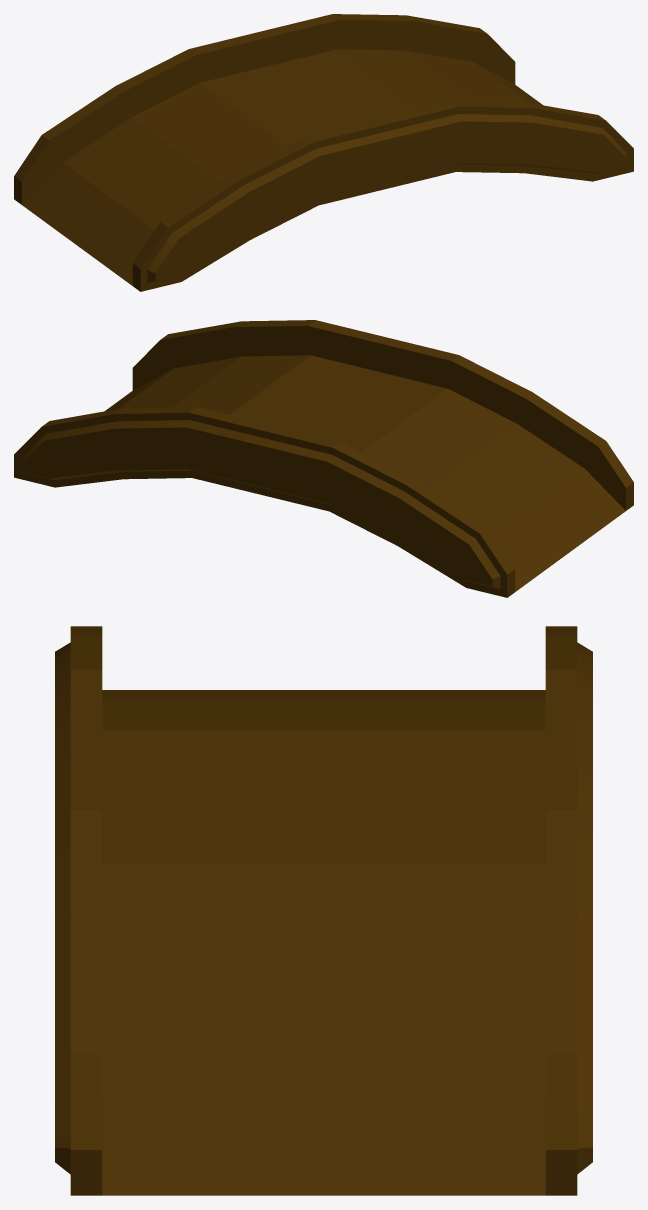
File: Bridge.fbx
The picture shows the model from 3 angles, top to bottom: view 1: azimuth 30°, elevation 25°; view 2: azimuth 150°, elevation 25°; view 3: azimuth 270°, elevation 25°; orthographic projection. The views are drawn at different scales.
Parts seen in each view (by area): view 1: Bridge; view 2: Bridge; view 3: Bridge.
Boxes of the visible parts, bbox=[...] form: Bridge: bbox=[14, 14, 633, 291]; Bridge: bbox=[14, 320, 633, 597]; Bridge: bbox=[55, 626, 592, 1195].
Size of the model in its own units: 360 by 75 by 170.
